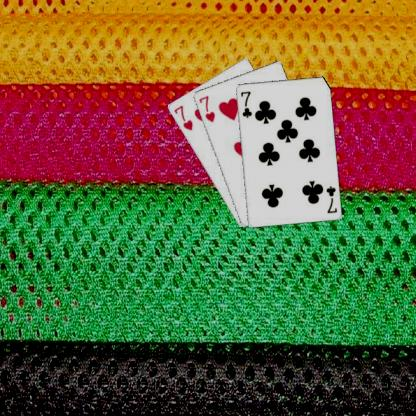7C: (237, 88, 253, 119), (323, 184, 339, 214)
7H: (170, 102, 194, 132), (196, 93, 216, 123)
